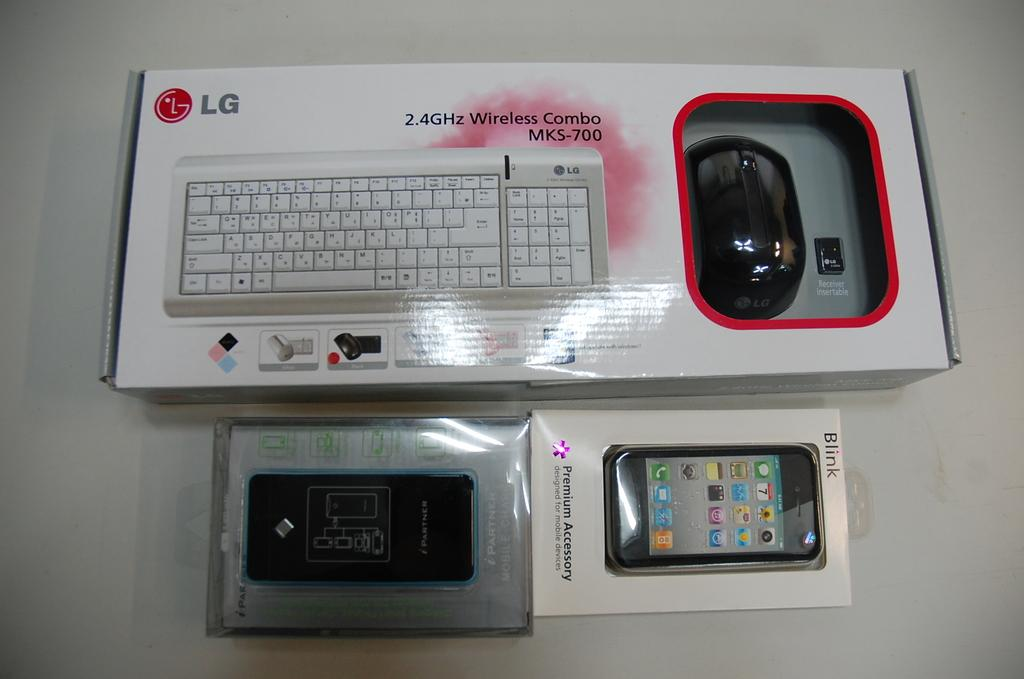Computer-mouse: (688, 136, 806, 316)
